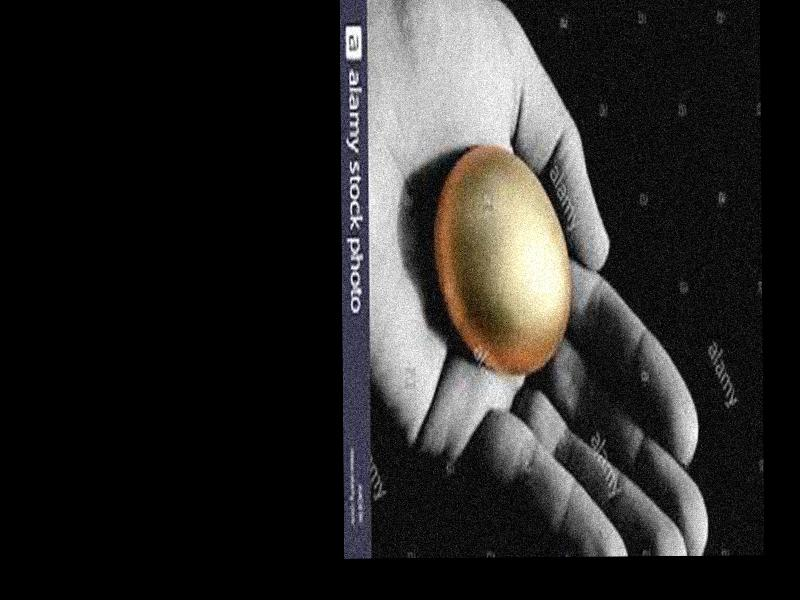Eggs: (436, 147, 571, 376)
